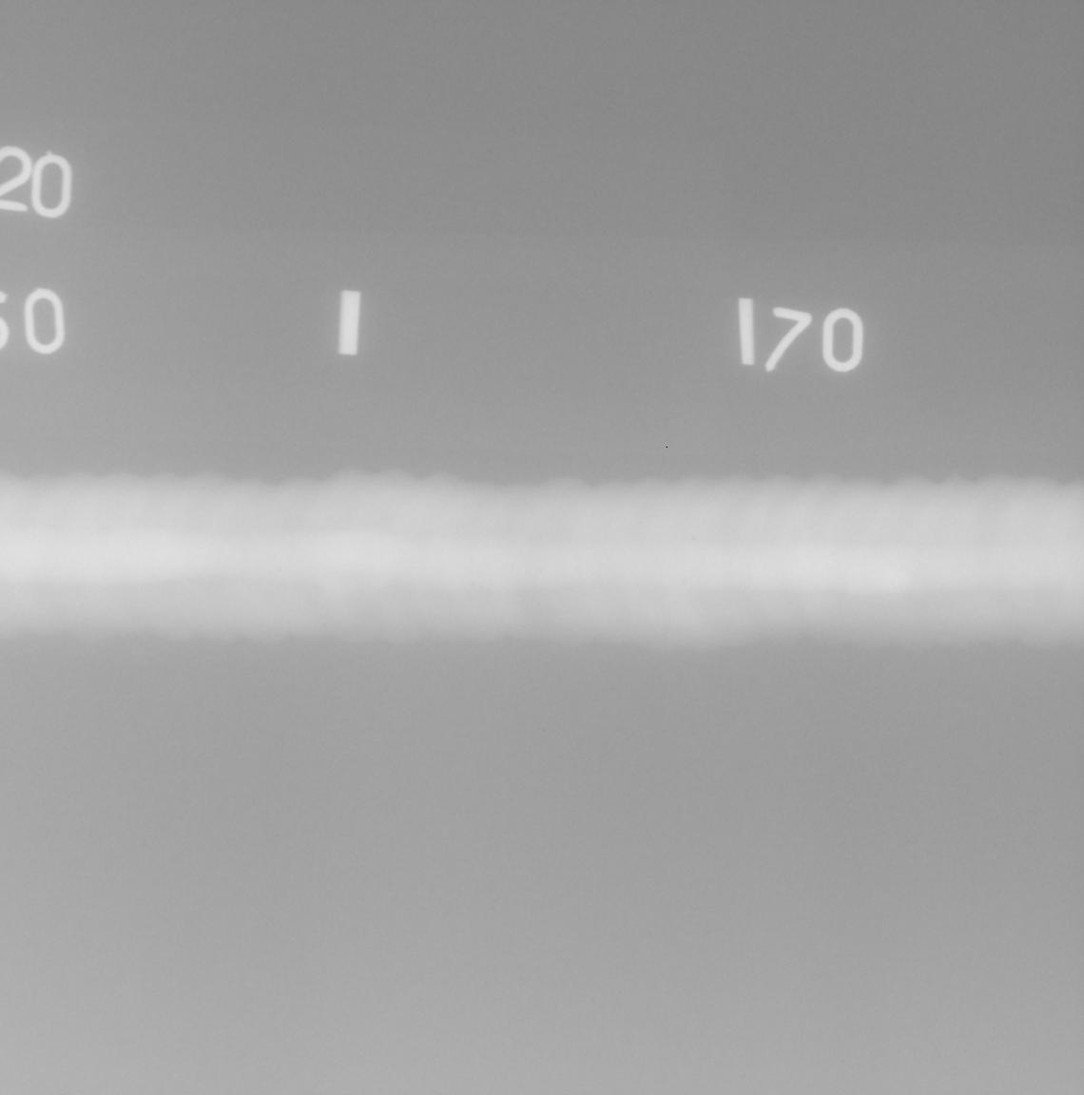Pore/Porosity: (275, 565, 282, 572), (681, 579, 687, 585), (691, 537, 697, 541)
